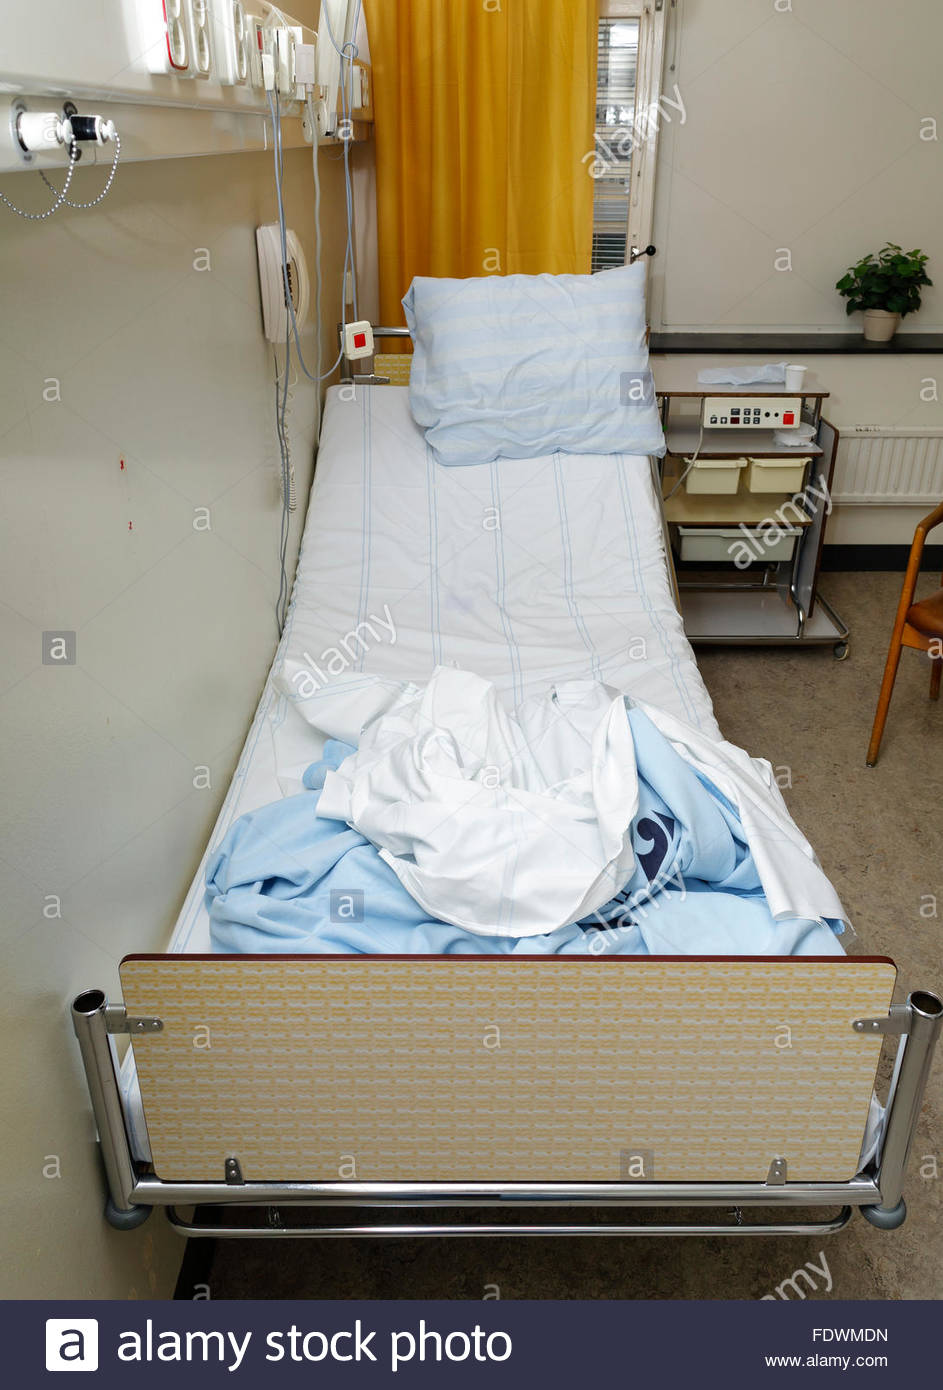hospital bed: (215, 277, 902, 1208)
